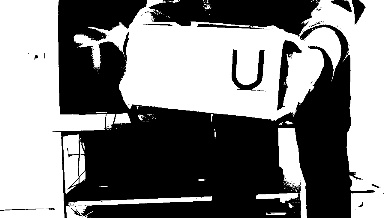U: (228, 43, 267, 92)
